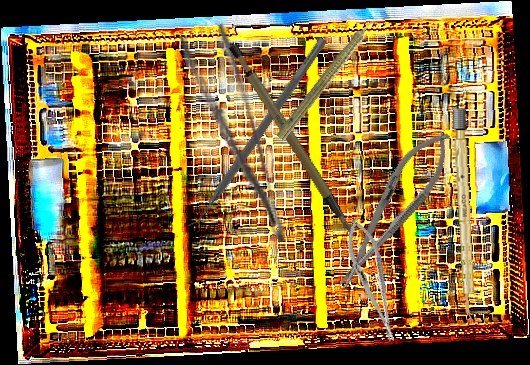Dressing Forceps: (177, 22, 291, 254)
Handpiece: (273, 8, 387, 146)
Needle Holder: (322, 119, 465, 299), (339, 213, 406, 347)
Scalpel Handle: (225, 30, 358, 255), (452, 107, 477, 322)
Spatula Surgical: (182, 31, 328, 233)
